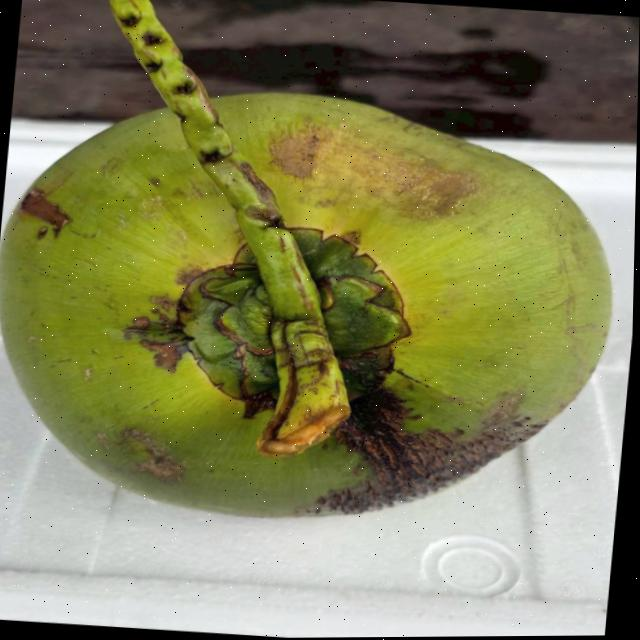coco_2.0: (122, 185, 460, 452)
